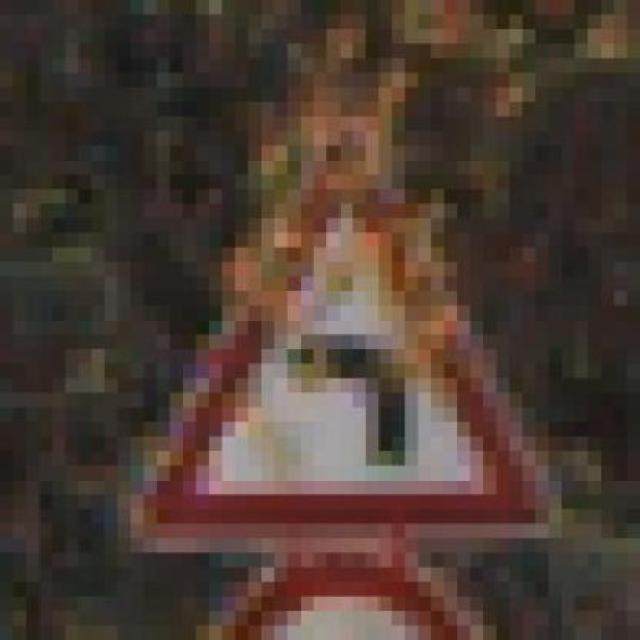Dangerous Left Curve Ahead: (143, 145, 562, 553)
